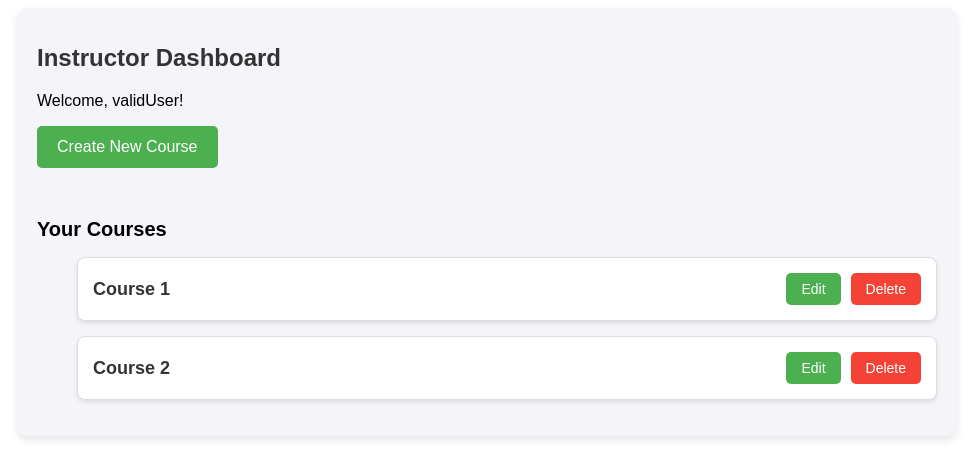
Test: Instructor Dashboard Functionality › should delete a course when the "Delete" button is clicked
Click the button with class "delete-btn" in the row of "Course 1".
click(887, 289)  # box 851,273 -> 922,305
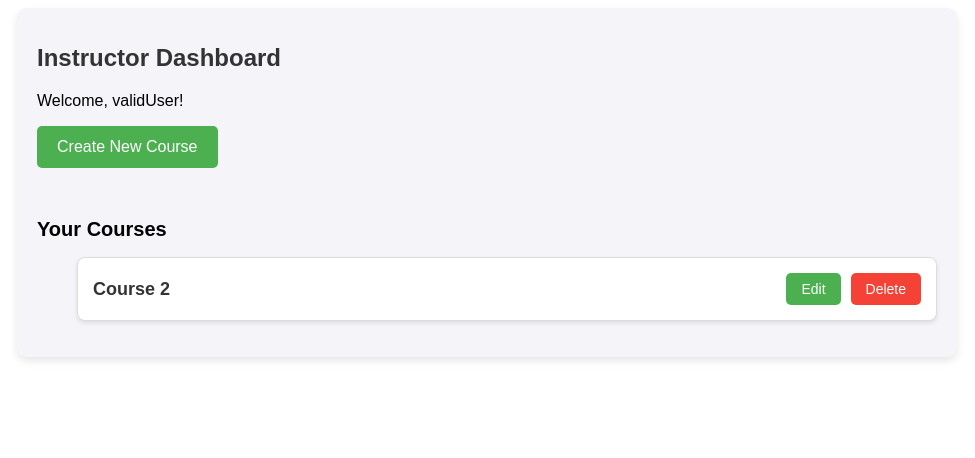
Now the number of list items with class "course-item" is 1, box 77,257 -> 937,321
